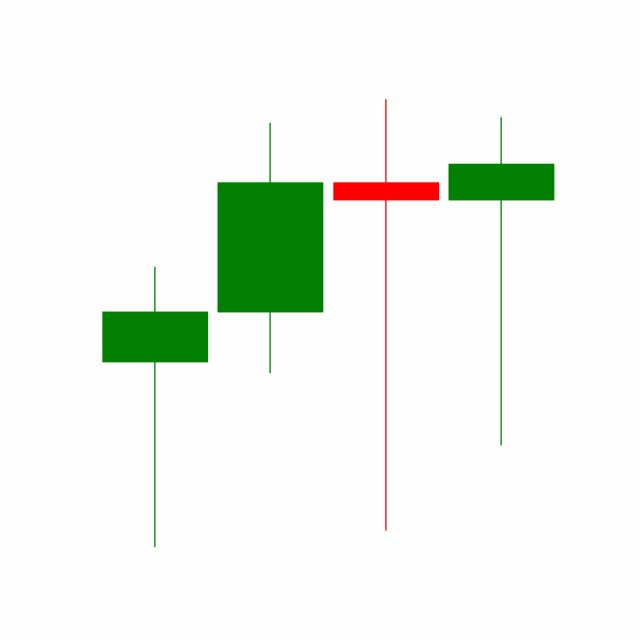Dragonfly Doji: (443, 112, 559, 448)
